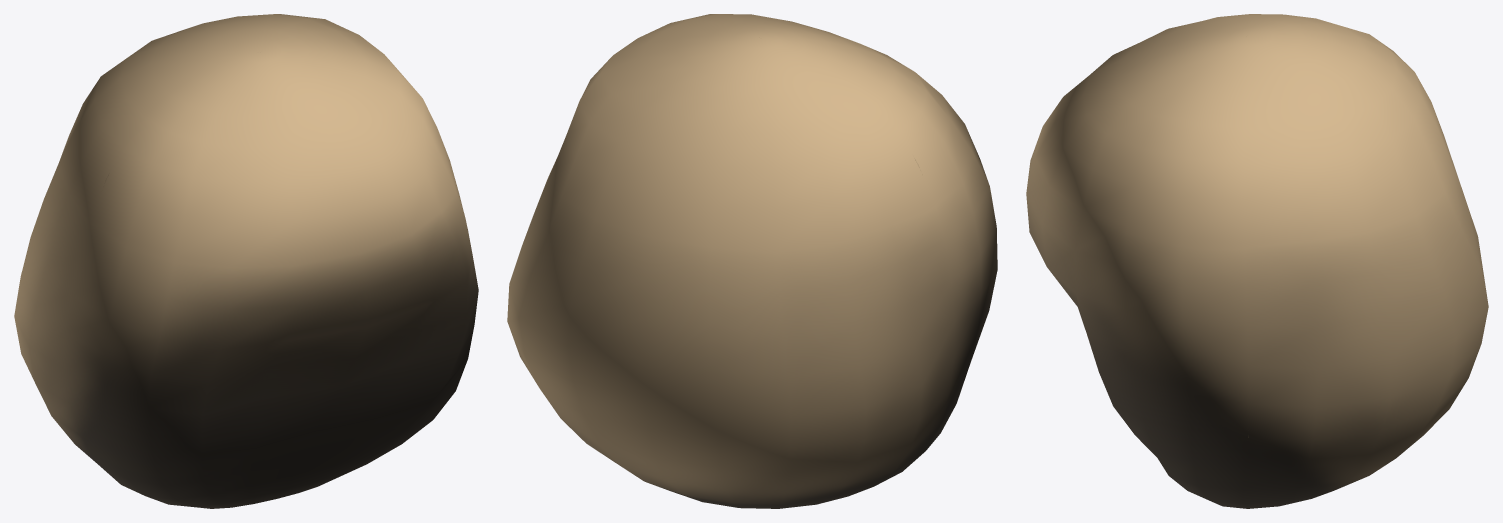
The model's file is hair_3.fbx.
The picture shows the model from 3 angles, left to right: view 1: azimuth 30°, elevation 25°; view 2: azimuth 150°, elevation 25°; view 3: azimuth 270°, elevation 25°; orthographic projection.
Visible parts, largest first — view 1: hair_3; view 2: hair_3; view 3: hair_3.
Part boxes in pixels (x1=…): hair_3: x1=14, y1=14, x2=478, y2=508; hair_3: x1=507, y1=14, x2=997, y2=508; hair_3: x1=1026, y1=14, x2=1488, y2=508.
Size of the model in its own units: 35.34 by 38.19 by 35.69.
